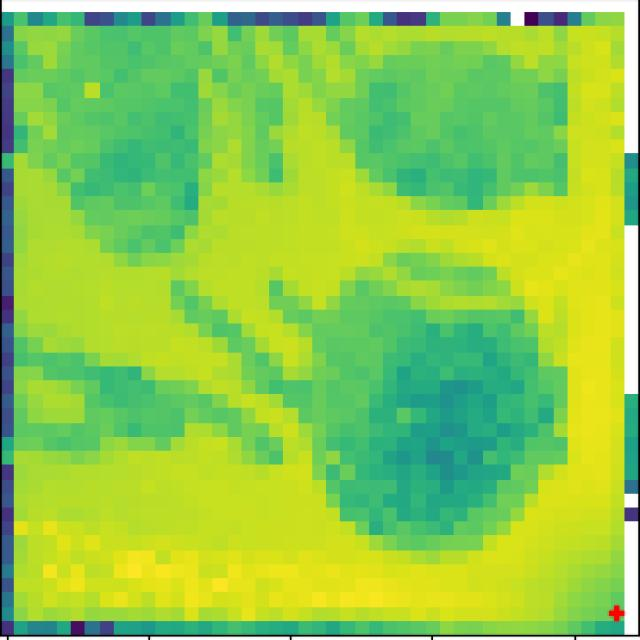Concrete: (55, 44, 213, 262)
Glass: (84, 353, 190, 458)
Metal: (367, 54, 542, 209)
Wood: (324, 306, 530, 524)
